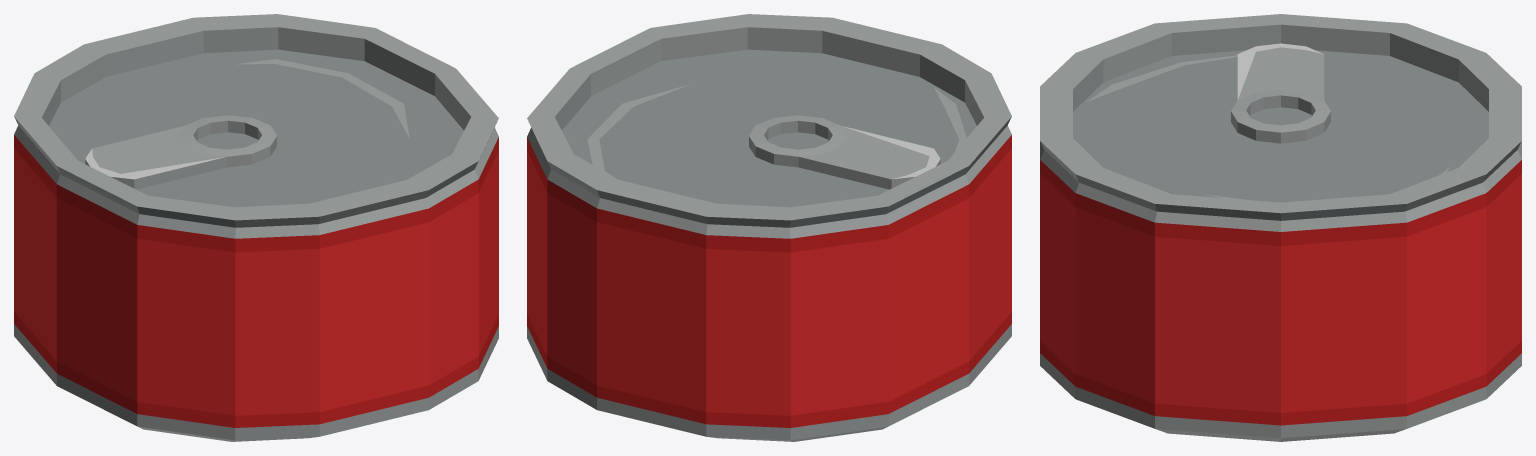
File: mesh_cannedgoods_red.fbx
3 renders of one model, left to right at view 1: azimuth 30°, elevation 25°; view 2: azimuth 150°, elevation 25°; view 3: azimuth 270°, elevation 25°, orthographic. The views are drawn at different scales.
Visible parts, largest first — view 1: mesh_cannedgoods_red; view 2: mesh_cannedgoods_red; view 3: mesh_cannedgoods_red.
Boxes of the visible parts, bbox=[...] form: mesh_cannedgoods_red: bbox=[14, 14, 498, 441]; mesh_cannedgoods_red: bbox=[527, 14, 1011, 441]; mesh_cannedgoods_red: bbox=[1040, 14, 1521, 441].
Bounding box in the file's own units: 0.1974 × 0.109 × 0.2017.
